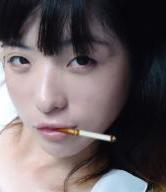smoke: (53, 126, 117, 143)
